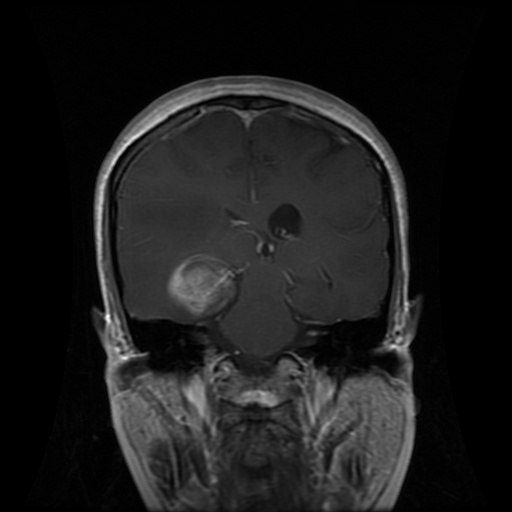glioma: (162, 251, 250, 326)
